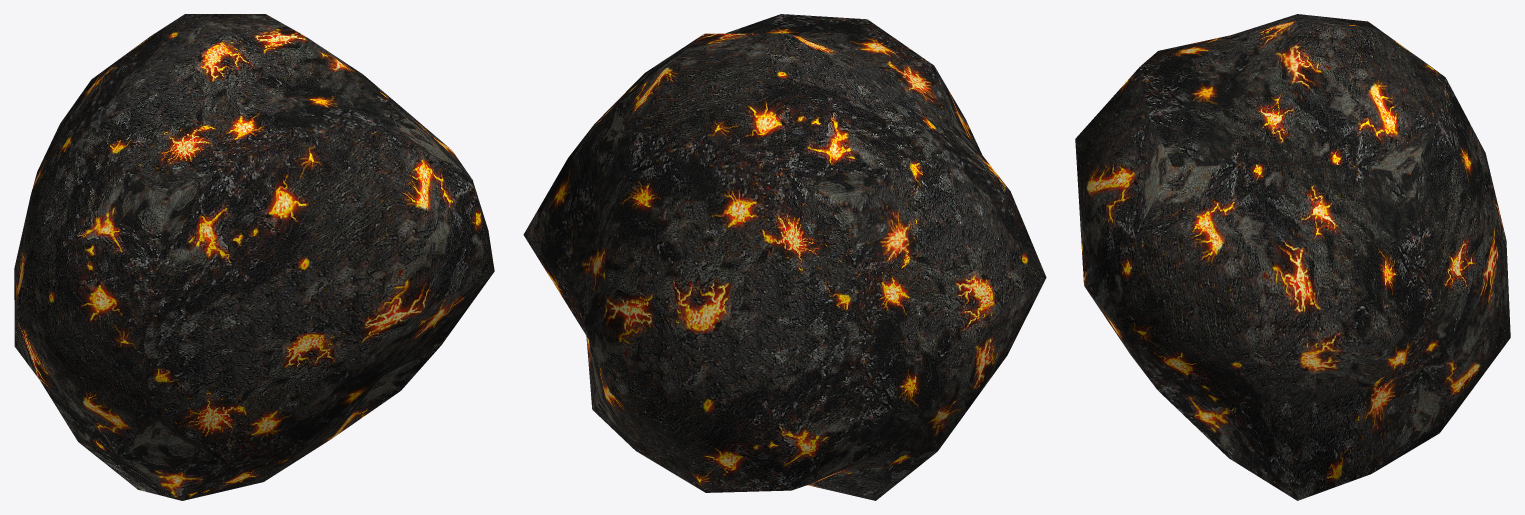
The model's file is asteroid_moltenrock_radial_s03_l0.fbx.
3 renders of one model, left to right at view 1: azimuth 30°, elevation 25°; view 2: azimuth 150°, elevation 25°; view 3: azimuth 270°, elevation 25°, orthographic. The views are drawn at different scales.
Visible parts, largest first — view 1: mesh_node; view 2: mesh_node; view 3: mesh_node.
Part boxes in pixels (left/top/right/bottom): mesh_node: left=14, top=14, right=494, bottom=500; mesh_node: left=523, top=14, right=1046, bottom=500; mesh_node: left=1075, top=14, right=1510, bottom=500.
Size of the model in its own units: 5.67 by 5.4 by 4.89.
Materials: 1 (1 with a texture image).
